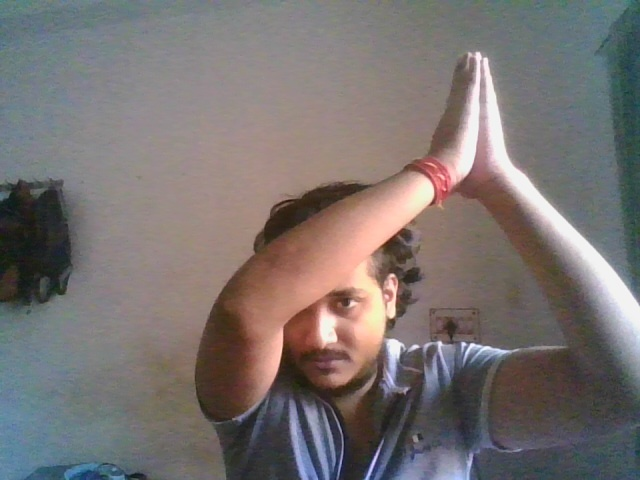ThankYou: (433, 51, 507, 195)
